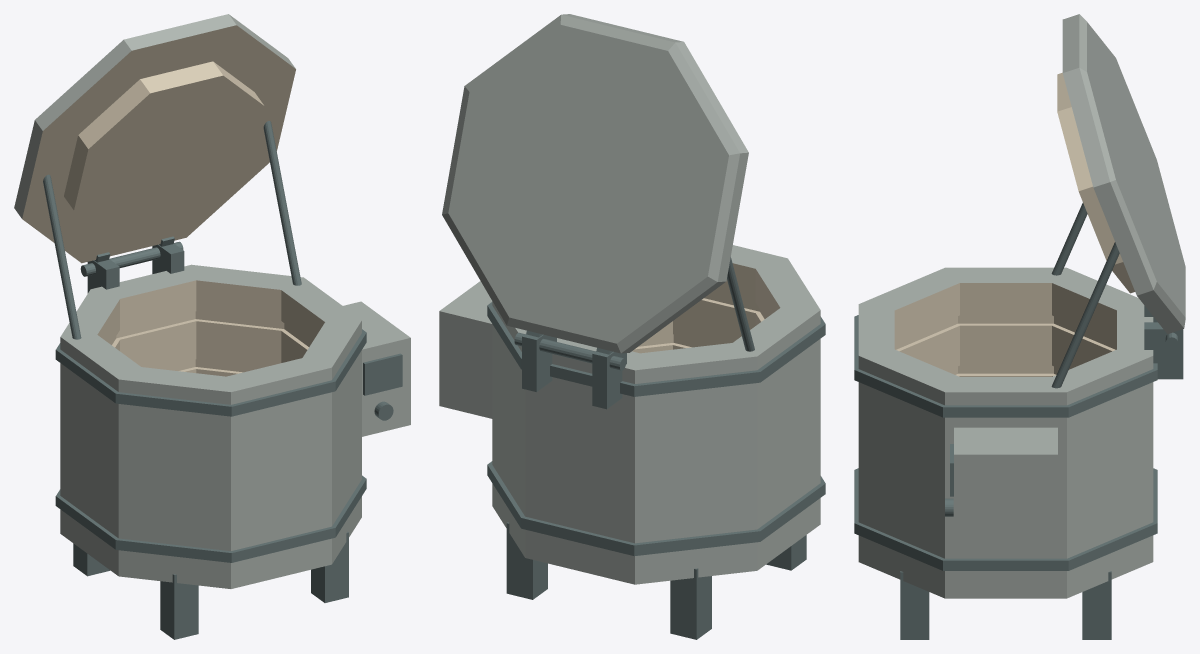
3 views of the same model, side by side, from view 1: azimuth 30°, elevation 25°; view 2: azimuth 150°, elevation 25°; view 3: azimuth 270°, elevation 25° (orthographic). The views are drawn at different scales.
Visible parts, largest first — view 1: WholeThickBlindOctagonalChamber, WholeSteppedInsulatedOctagonalLid, WholeExteriorRetainingBand_0.82, WholeExteriorRetainingBand_0.3, WholeAttachedSideController, WholeShortKilnLeg_(-0.28, -0.28), WholeShortKilnLeg_(0.28, -0.28), WholeFixedSideLidStay_1, WholeFixedSideLidStay_-1, BlankUnlitControlFace, WholeRearHingeStand_-1, WholeRearHingeStand_1 (+2 smaller); view 2: WholeSteppedInsulatedOctagonalLid, WholeThickBlindOctagonalChamber, WholeAttachedSideController, WholeExteriorRetainingBand_0.3, WholeExteriorRetainingBand_0.82, WholeShortKilnLeg_(-0.28, 0.28), WholeShortKilnLeg_(0.28, 0.28), WholeRearHingeStand_-1, WholeRearHingeStand_1, WholeRearHorizontalLidPin, WholeFixedSideLidStay_-1, WholeShortKilnLeg_(-0.28, -0.28); view 3: WholeThickBlindOctagonalChamber, WholeSteppedInsulatedOctagonalLid, WholeAttachedSideController, WholeExteriorRetainingBand_0.3, WholeExteriorRetainingBand_0.82, WholeShortKilnLeg_(0.28, 0.28), WholeShortKilnLeg_(0.28, -0.28), WholeRearHingeStand_1, WholeFixedSideLidStay_1, WholeFixedSideLidStay_-1.
Boxes of the visible parts, <box> form: WholeThickBlindOctagonalChamber: <box>60,264,361,588</box>; WholeSteppedInsulatedOctagonalLid: <box>14,14,295,263</box>; WholeExteriorRetainingBand_0.82: <box>55,329,366,416</box>; WholeExteriorRetainingBand_0.3: <box>55,475,366,562</box>; WholeAttachedSideController: <box>343,301,410,436</box>; WholeShortKilnLeg_(-0.28, -0.28): <box>160,574,198,639</box>; WholeShortKilnLeg_(0.28, -0.28): <box>311,531,348,602</box>; WholeFixedSideLidStay_1: <box>263,121,301,285</box>; WholeFixedSideLidStay_-1: <box>43,174,81,339</box>; BlankUnlitControlFace: <box>363,353,402,395</box>; WholeRearHingeStand_-1: <box>87,259,119,293</box>; WholeRearHingeStand_1: <box>152,243,184,273</box>; WholeSteppedInsulatedOctagonalLid: <box>442,14,748,353</box>; WholeThickBlindOctagonalChamber: <box>492,245,820,584</box>; WholeAttachedSideController: <box>439,281,492,418</box>; WholeExteriorRetainingBand_0.3: <box>487,461,825,556</box>; WholeExteriorRetainingBand_0.82: <box>487,302,825,396</box>; WholeShortKilnLeg_(-0.28, 0.28): <box>670,568,711,639</box>; WholeShortKilnLeg_(0.28, 0.28): <box>506,522,547,599</box>; WholeRearHingeStand_-1: <box>592,351,626,409</box>; WholeRearHingeStand_1: <box>522,334,556,391</box>; WholeRearHorizontalLidPin: <box>514,332,626,370</box>; WholeFixedSideLidStay_-1: <box>727,257,754,351</box>; WholeShortKilnLeg_(-0.28, -0.28): <box>766,535,806,570</box>; WholeThickBlindOctagonalChamber: <box>858,267,1153,598</box>; WholeSteppedInsulatedOctagonalLid: <box>1057,14,1185,334</box>; WholeAttachedSideController: <box>954,427,1057,545</box>; WholeExteriorRetainingBand_0.3: <box>854,468,1157,570</box>; WholeExteriorRetainingBand_0.82: <box>854,315,1157,417</box>; WholeShortKilnLeg_(0.28, 0.28): <box>1082,571,1111,639</box>; WholeShortKilnLeg_(0.28, -0.28): <box>900,571,929,639</box>; WholeRearHingeStand_1: <box>1144,322,1183,379</box>; WholeFixedSideLidStay_1: <box>1051,242,1119,388</box>; WholeFixedSideLidStay_-1: <box>1051,203,1087,275</box>.
Bounding box in the file's own units: 1.12 × 1.88 × 1.02.
